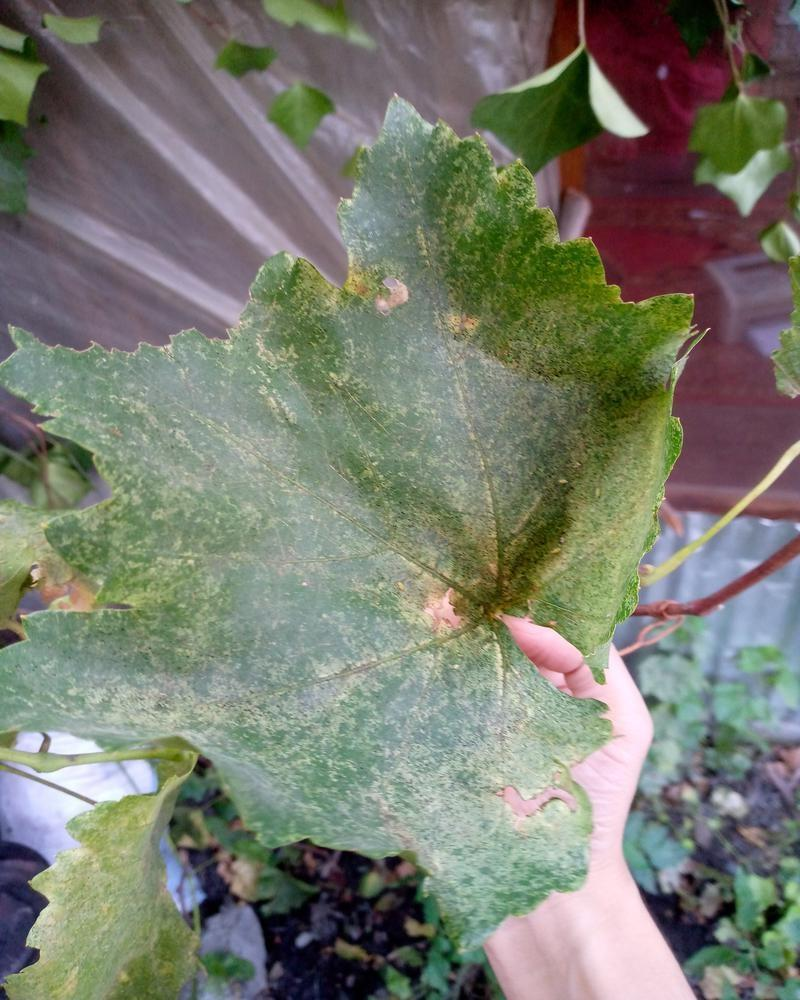Powdery-Mildew: (410, 674, 590, 911), (66, 655, 281, 804), (541, 416, 660, 644), (119, 412, 263, 594), (279, 650, 369, 724), (434, 172, 497, 235), (359, 260, 422, 323), (420, 298, 483, 361), (396, 592, 459, 655)
